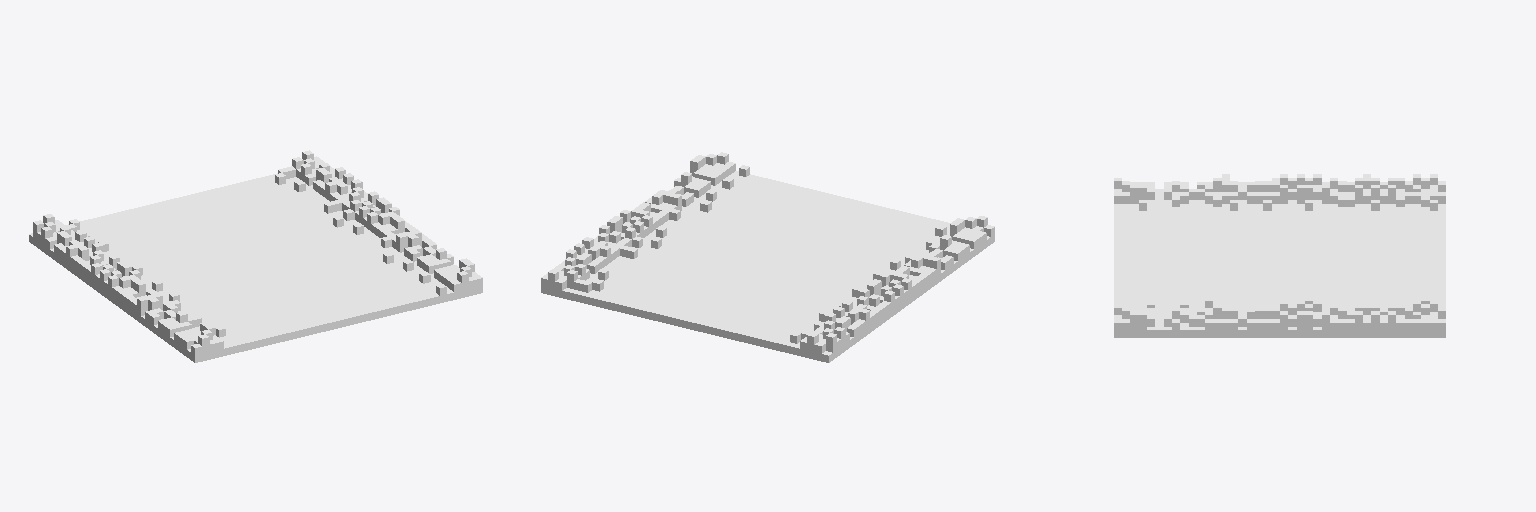
The model's file is dirtwithgrass_floor.obj.
3 views of the same model, side by side, from view 1: azimuth 30°, elevation 25°; view 2: azimuth 150°, elevation 25°; view 3: azimuth 270°, elevation 25° (orthographic).
Parts seen in each view (by area): view 1: object 1; view 2: object 1; view 3: object 1.
Part boxes in pixels (bbox=[...]): object 1: bbox=[29, 150, 482, 362]; object 1: bbox=[541, 152, 994, 362]; object 1: bbox=[1114, 174, 1445, 337].
Size of the model in its own units: 4 by 0.3 by 4.